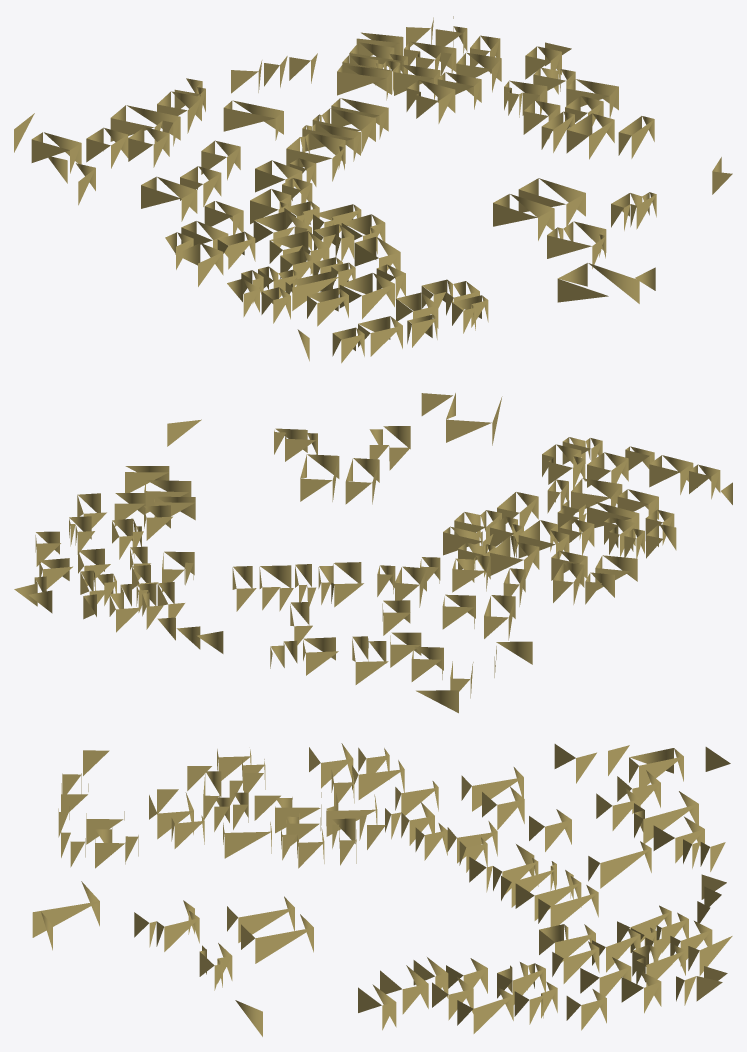
The picture shows the model from 3 angles, top to bottom: view 1: azimuth 30°, elevation 25°; view 2: azimuth 150°, elevation 25°; view 3: azimuth 270°, elevation 25°; orthographic projection. The views are drawn at different scales.
Bounding box in the file's own units: 167 × 7.5 × 189.
